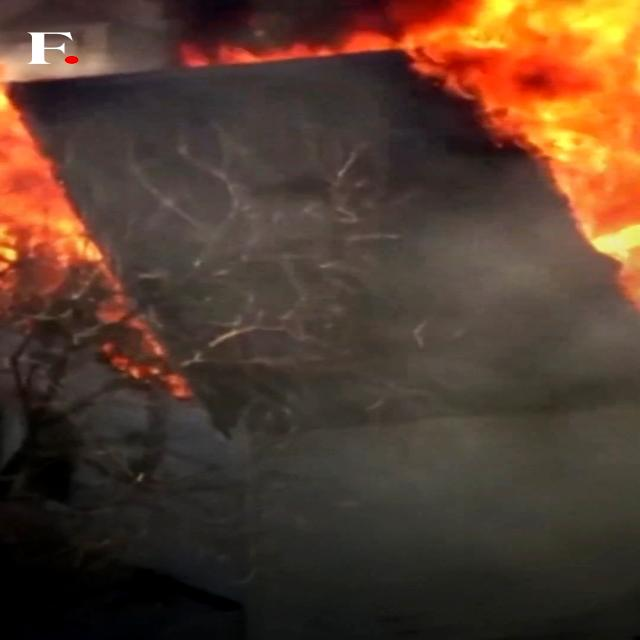helmet: (398, 0, 639, 313), (0, 78, 201, 408)
no_helmet: (237, 420, 639, 640)
